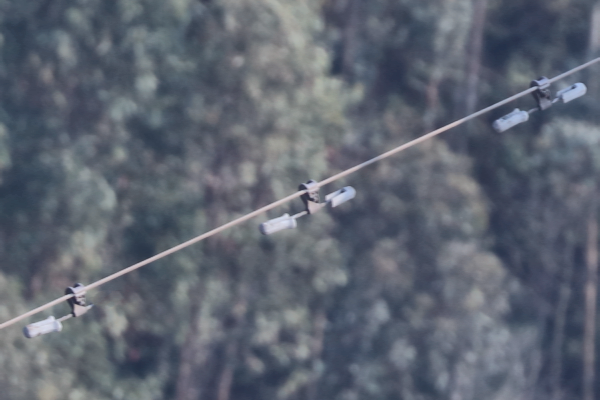damper: (258, 175, 358, 237), (491, 73, 589, 134)
damper_defect: (19, 280, 101, 339)
